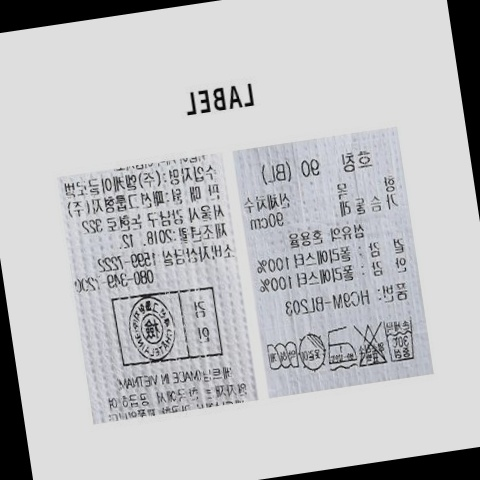DN_bleach: (351, 321, 388, 369)
hand_wash: (380, 315, 417, 365)
iron_low: (324, 325, 359, 370)
line_dry_in_shade: (295, 329, 329, 376)
wring: (264, 336, 300, 376)
